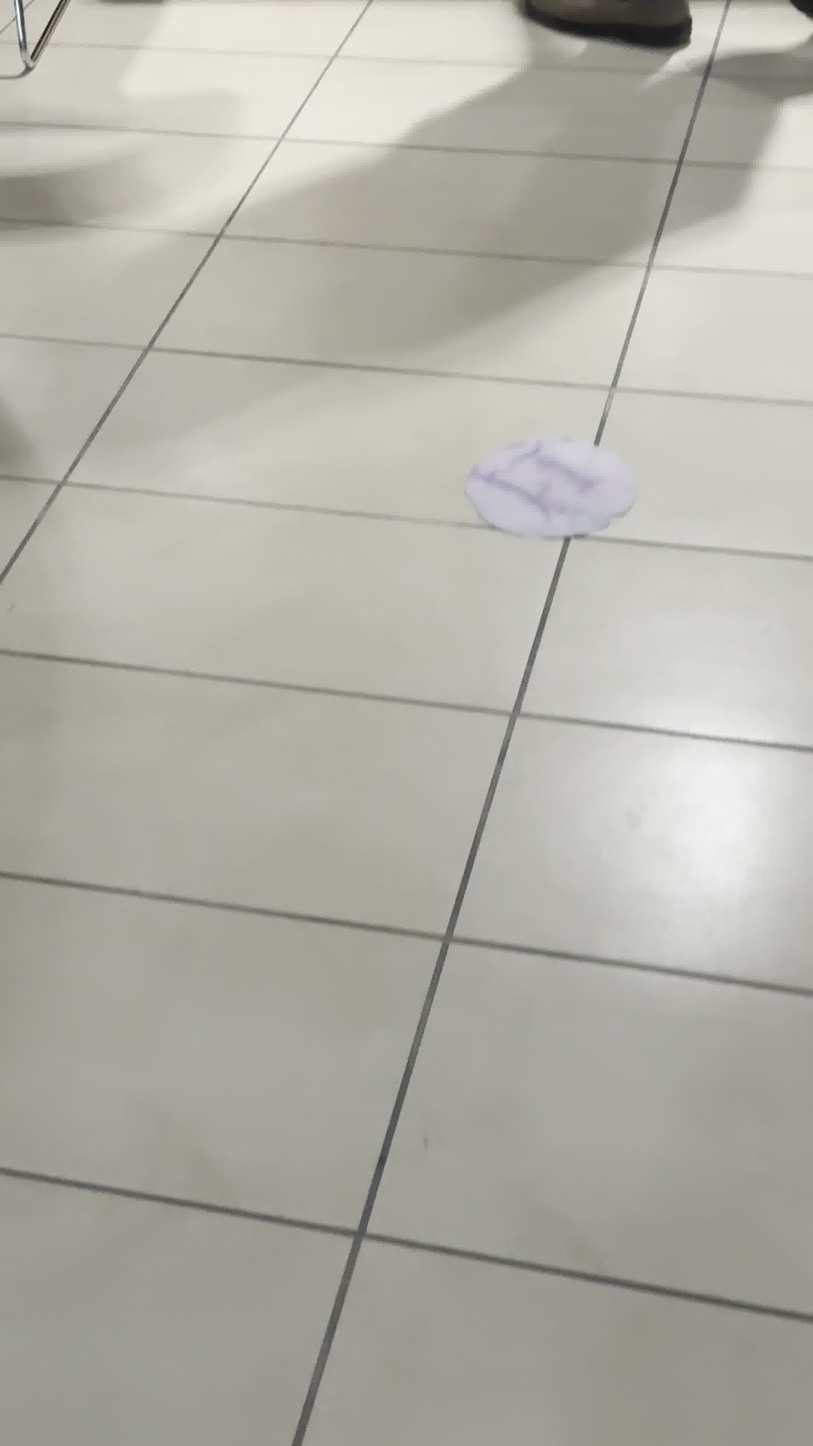Target: (462, 438, 637, 540)
